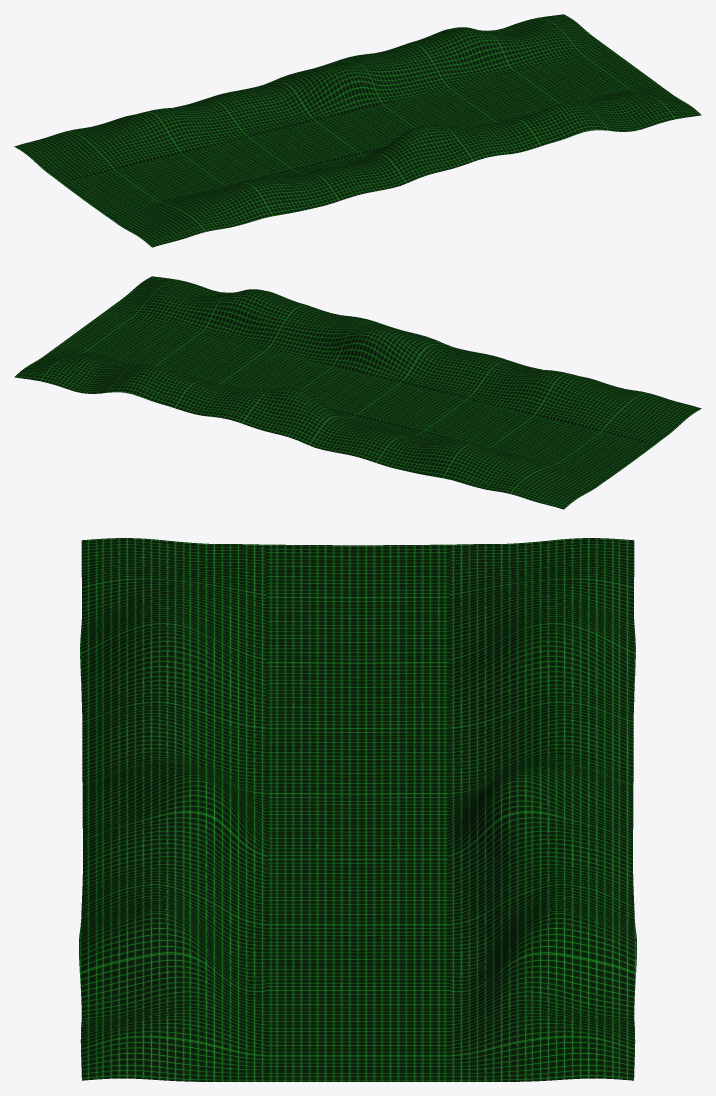
The model's file is FLOOR.fbx.
The picture shows the model from 3 angles, top to bottom: view 1: azimuth 30°, elevation 25°; view 2: azimuth 150°, elevation 25°; view 3: azimuth 270°, elevation 25°; orthographic projection. The views are drawn at different scales.
Visible parts, largest first — view 1: Plane, Plane.001; view 2: Plane, Plane.001; view 3: Plane, Plane.001.
Part boxes in pixels (box(x1,y1,x2,y2)): Plane: box(14, 14, 701, 247); Plane.001: box(60, 48, 655, 215); Plane: box(14, 276, 701, 509); Plane.001: box(60, 310, 655, 477); Plane: box(79, 538, 636, 1081); Plane.001: box(265, 544, 450, 1081).
Size of the model in its own units: 1894 by 97.34 by 832.
